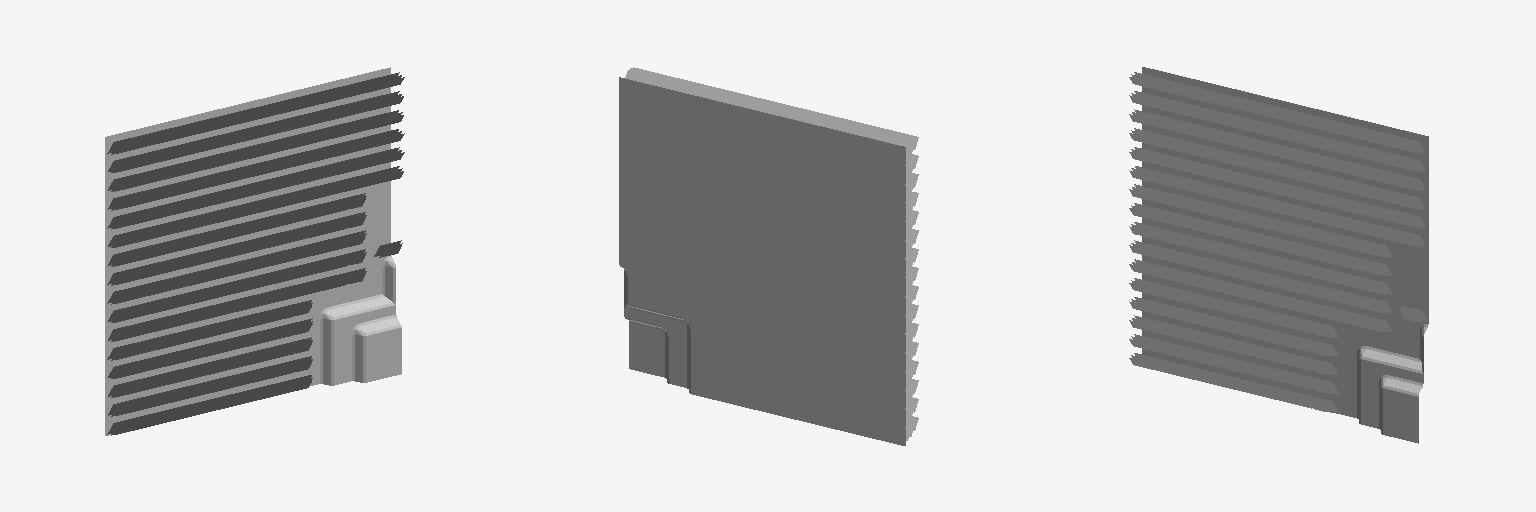
File: Plat_full_05_11.obj
3 views of the same model, side by side, from view 1: azimuth 30°, elevation 25°; view 2: azimuth 150°, elevation 25°; view 3: azimuth 330°, elevation 25° (orthographic).
Parts seen in each view (by area): view 1: map; view 2: map; view 3: map.
Part boxes in pixels (x1,y1,x2,y2): map: (105,67,404,435); map: (619,67,918,445); map: (1129,67,1428,443).
Size of the model in its own units: 32.25 by 32.12 by 2.64.